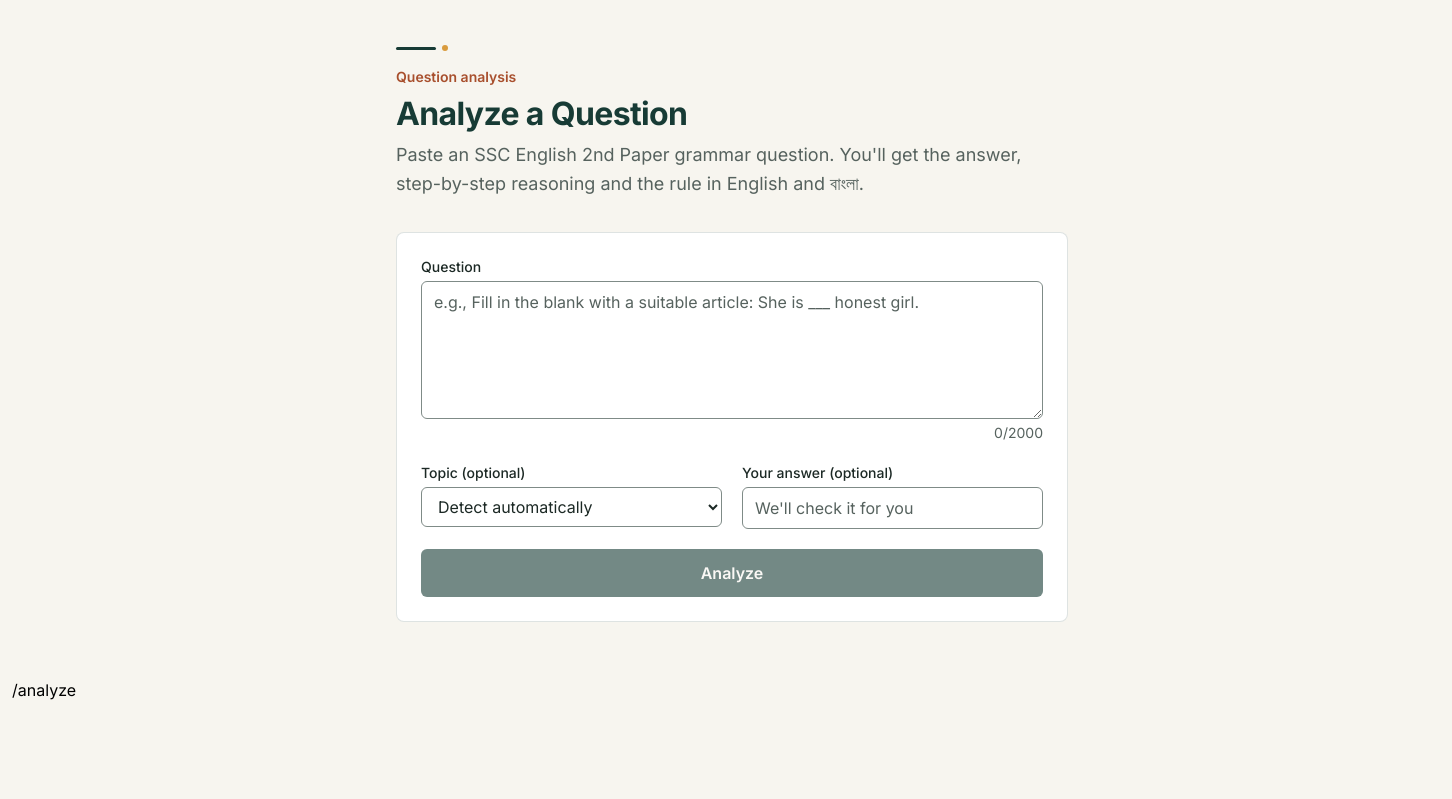
it: AnalyzePage › sends the chosen topic and the student answer, and shows the feedback
This screenshot has width=1452, height=799.
Type "She is ___ honest girl." into the text box labelled "Question". click: point(732, 350)
box: [421,281,1043,419]
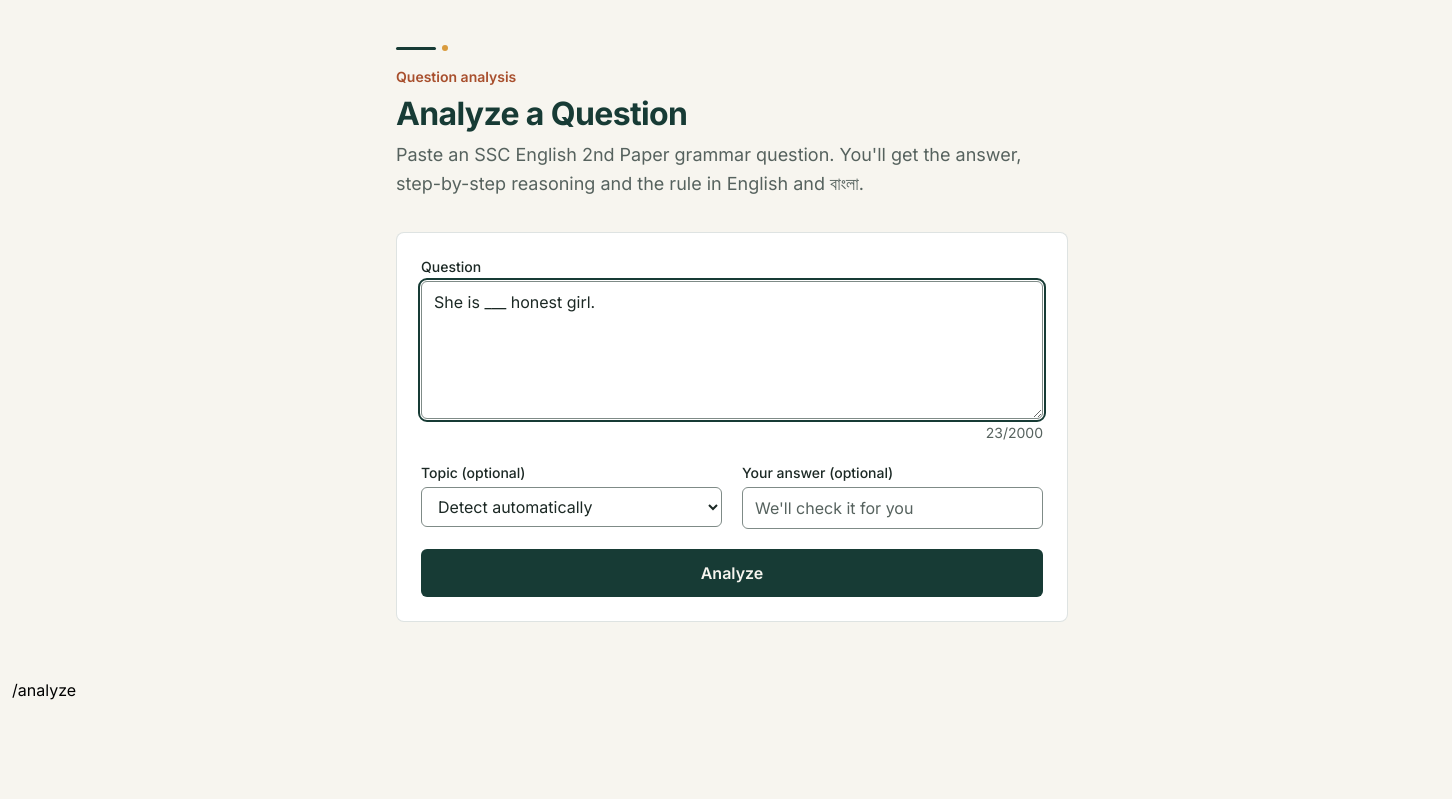
Select "Articles (আর্টিকেল)" in the dropdown labelled "Topic (optional)". click: point(572, 507)
box: [421,487,722,527]
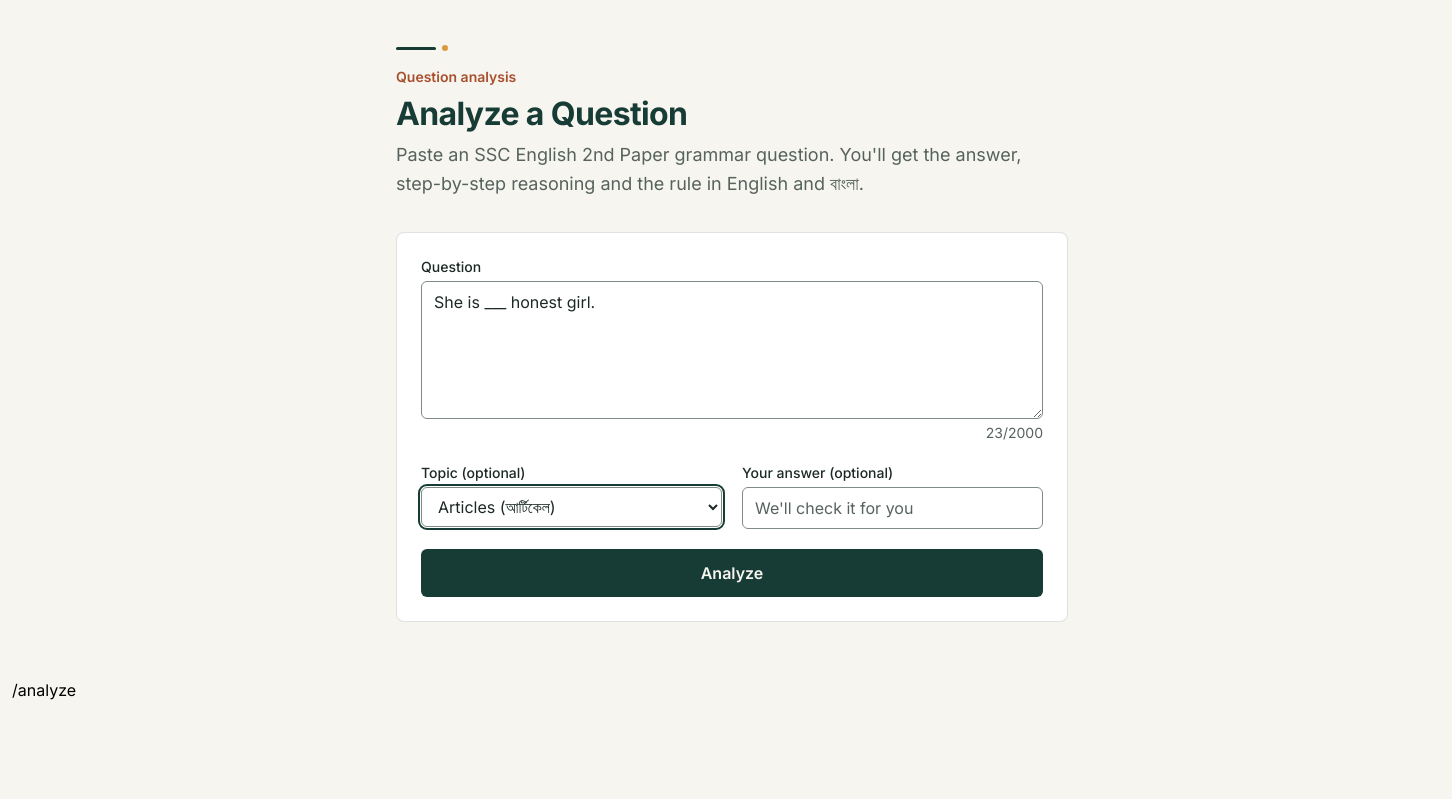
Type "a" into the field labelled "Your answer (optional)". click: point(892, 508)
box: [742,487,1043,529]
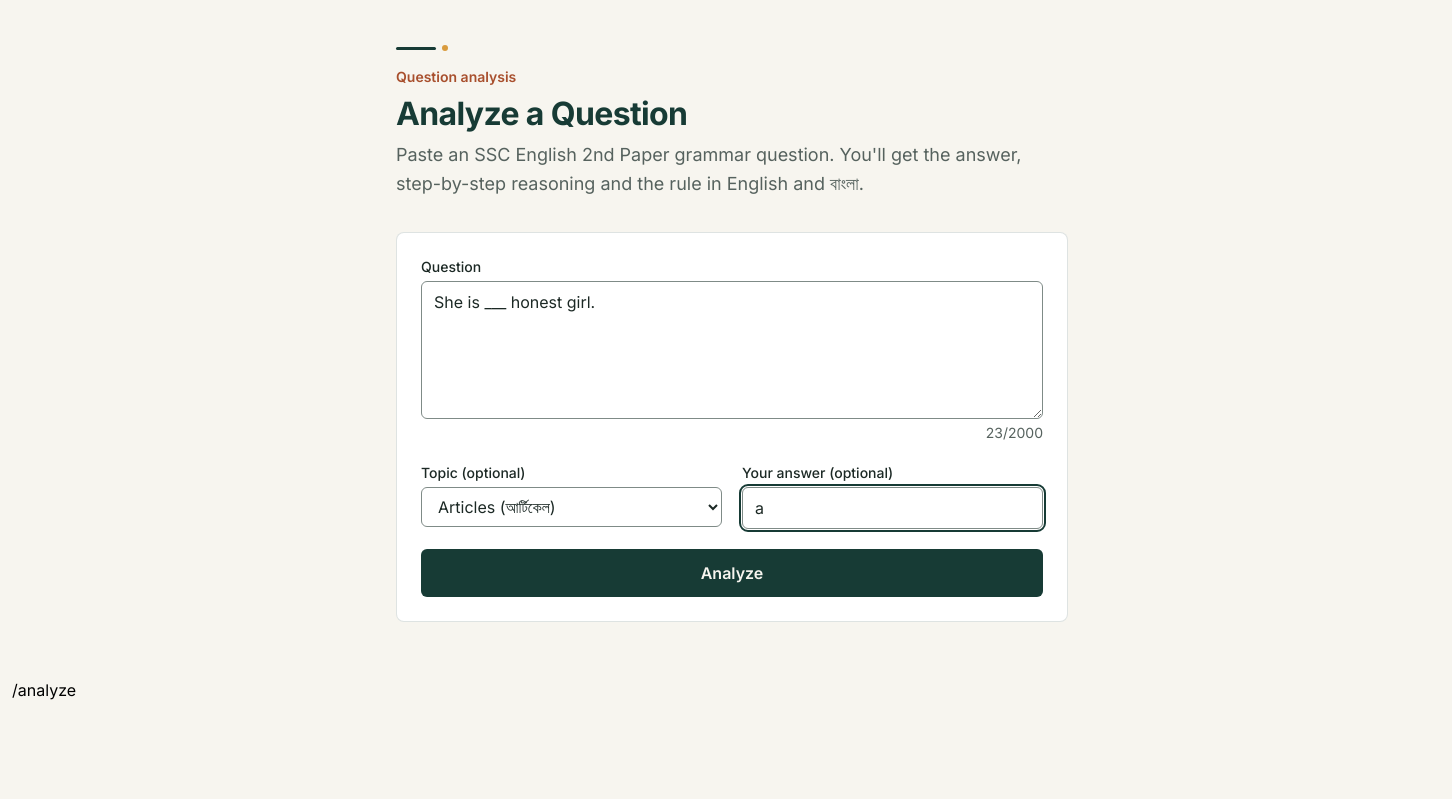
Click the button "Analyze". click: point(732, 573)
box: [421,549,1043,597]
(page scrolled)
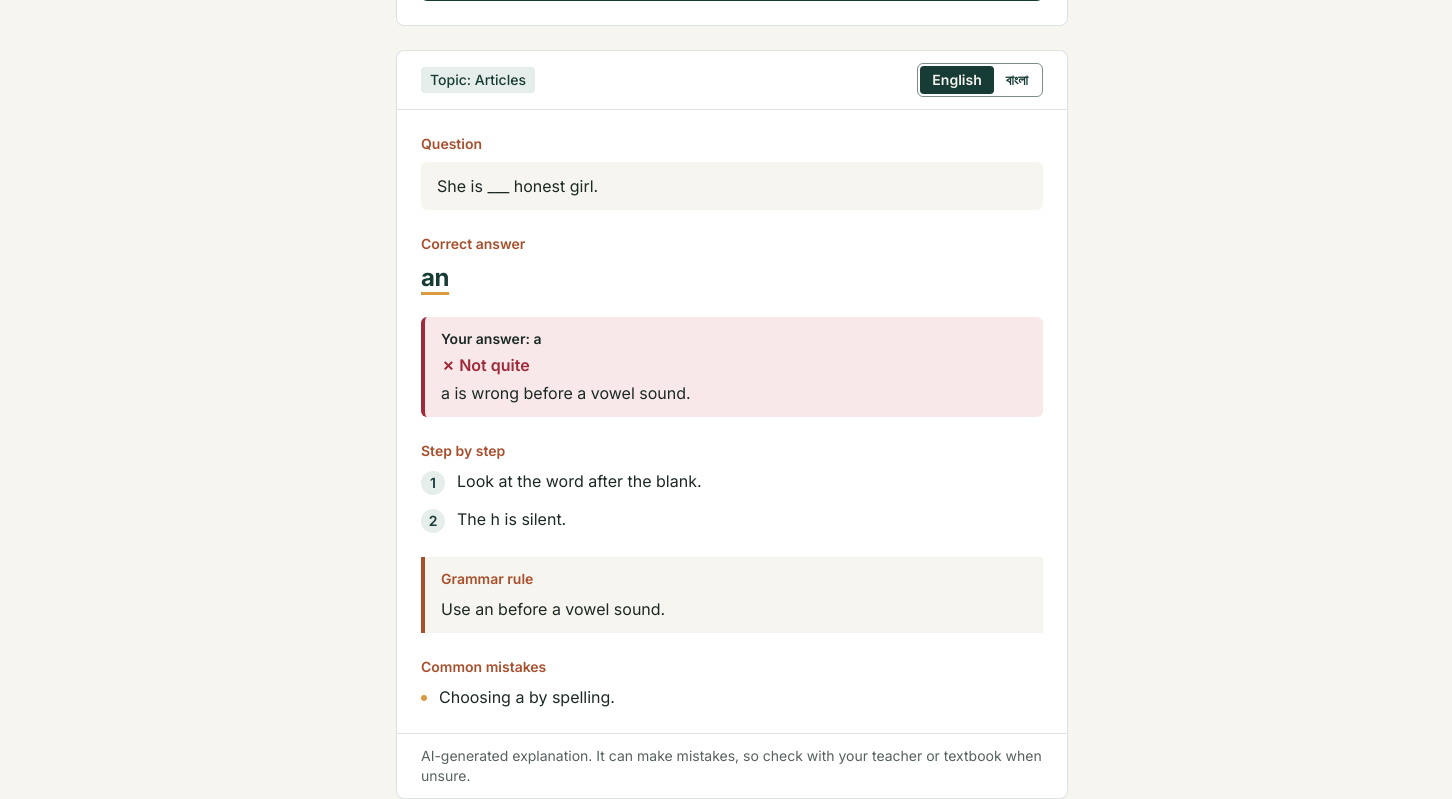
Expected: the text "✗ Not quite" is shown, [441,355,530,375]
Expected: the text "a is wrong before a vowel sound." is shown, [441,383,691,403]
